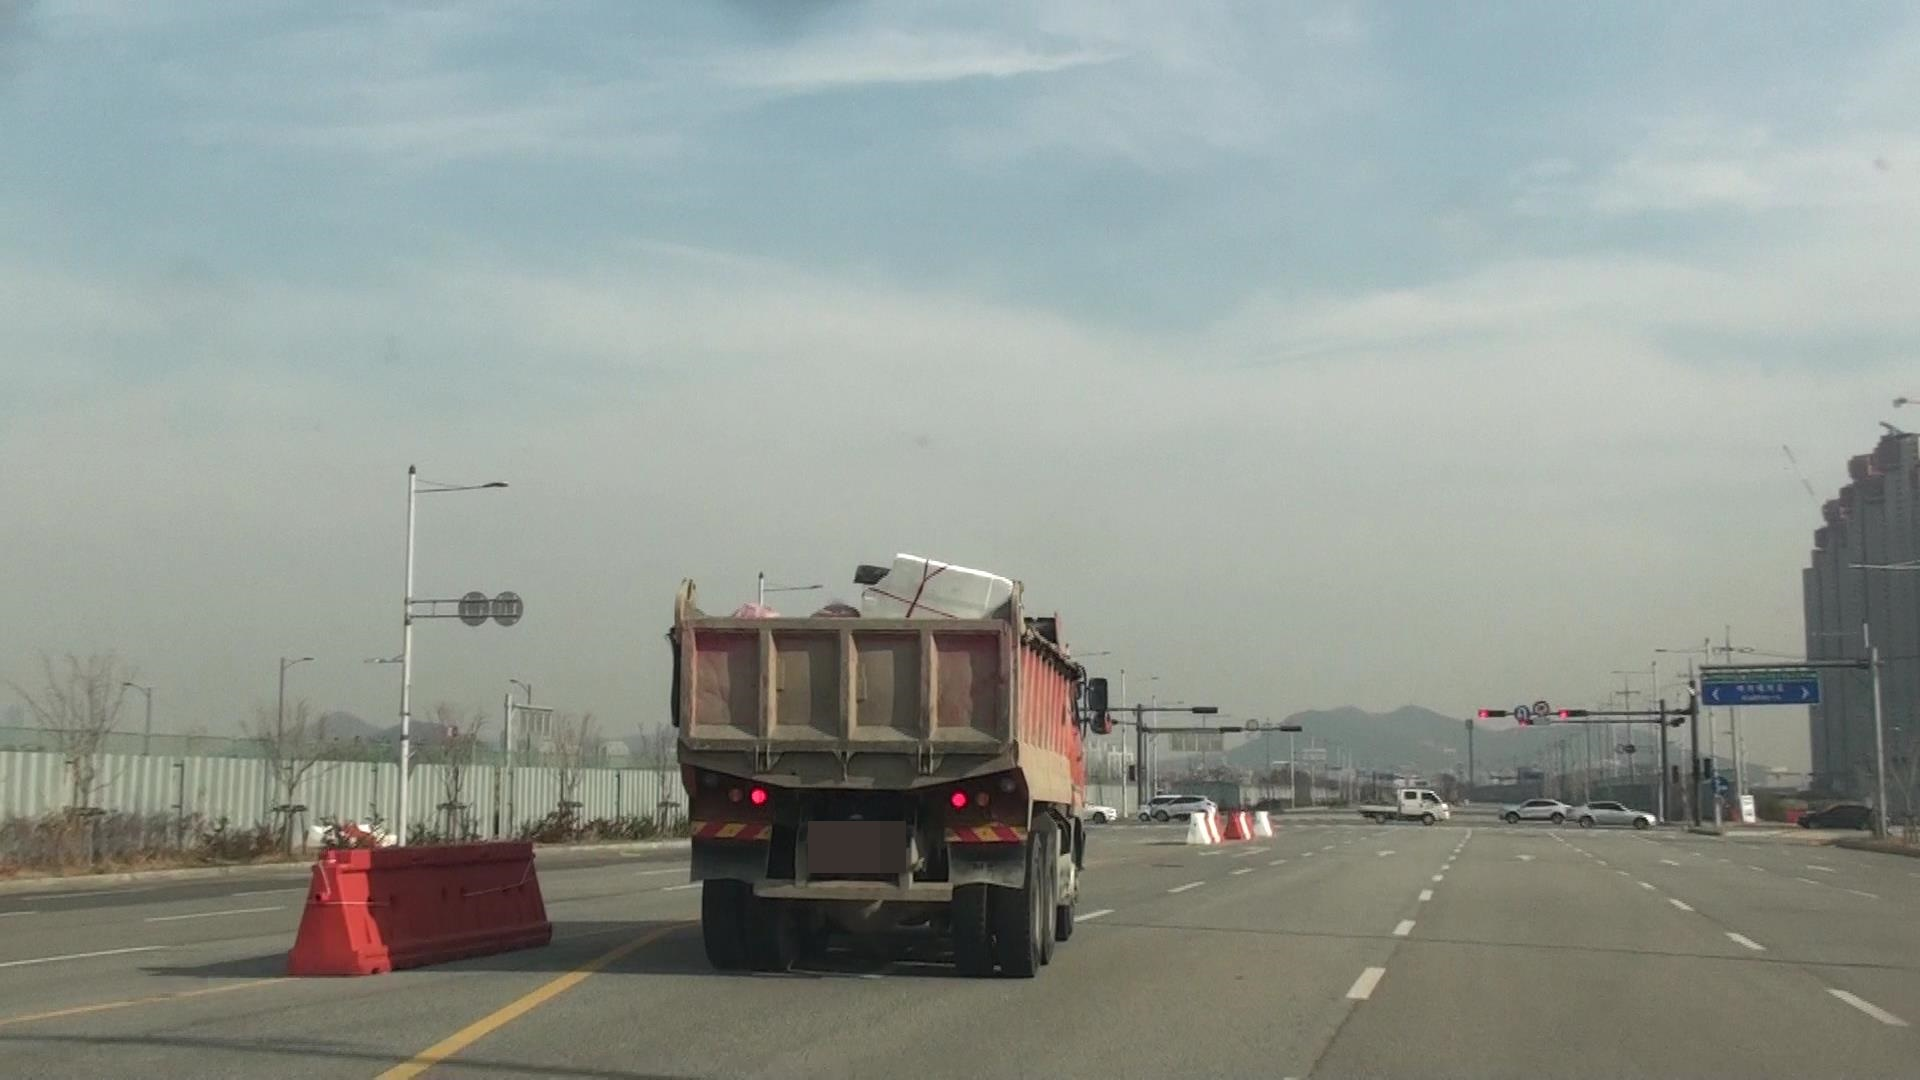불법차량: (670, 553, 1113, 977)
